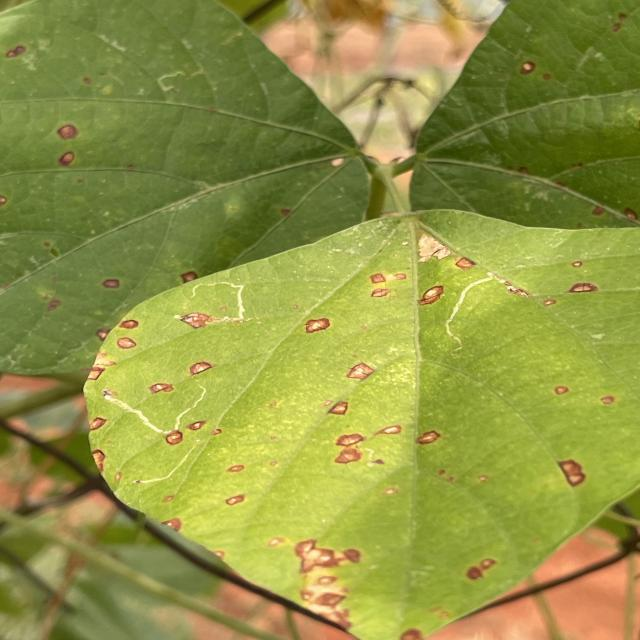Dolicos bean_cercospora leaf spot: (89, 198, 640, 634)
